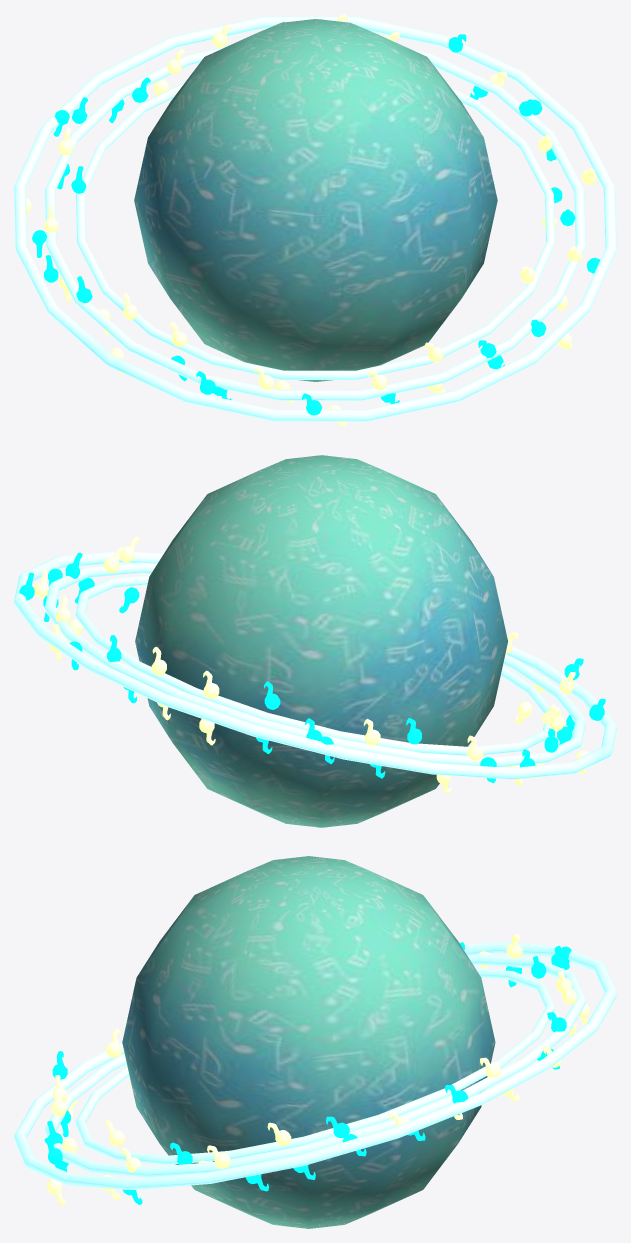
Rendered from Marie_Miku_PlanetGLB.glb.
3 views of the same model, one above another, from view 1: azimuth 30°, elevation 25°; view 2: azimuth 150°, elevation 25°; view 3: azimuth 270°, elevation 25° (orthographic). The views are drawn at different scales.
Parts seen in each view (by area): view 1: Sphere, BezierCircle.002, BezierCircle.001, BezierCircle, SourceEnergieNoteMusic.003, SourceEnergieNoteMusic.001; view 2: Sphere, BezierCircle.002, BezierCircle.001, SourceEnergieNoteMusic.003, BezierCircle, SourceEnergieNoteMusic.001; view 3: Sphere, BezierCircle.002, BezierCircle.001, BezierCircle, SourceEnergieNoteMusic.003, SourceEnergieNoteMusic.001.
Boxes of the visible parts, x1=… form: Sphere: x1=134, y1=19, x2=497, y2=381; BezierCircle.002: x1=14, y1=16, x2=616, y2=421; BezierCircle.001: x1=44, y1=46, x2=586, y2=400; BezierCircle: x1=75, y1=81, x2=555, y2=379; SourceEnergieNoteMusic.003: x1=43, y1=14, x2=596, y2=415; SourceEnergieNoteMusic.001: x1=26, y1=79, x2=600, y2=426; Sphere: x1=135, y1=455, x2=507, y2=827; BezierCircle.002: x1=14, y1=551, x2=616, y2=779; BezierCircle.001: x1=45, y1=562, x2=585, y2=767; SourceEnergieNoteMusic.003: x1=19, y1=536, x2=605, y2=767; BezierCircle: x1=75, y1=575, x2=550, y2=755; SourceEnergieNoteMusic.001: x1=43, y1=568, x2=588, y2=793; Sphere: x1=122, y1=856, x2=495, y2=1228; BezierCircle.002: x1=14, y1=941, x2=616, y2=1190; BezierCircle.001: x1=45, y1=954, x2=585, y2=1177; BezierCircle: x1=75, y1=968, x2=555, y2=1164; SourceEnergieNoteMusic.003: x1=44, y1=934, x2=576, y2=1172; SourceEnergieNoteMusic.001: x1=47, y1=946, x2=589, y2=1205.
Size of the model in its own units: 29.12 by 17.54 by 28.33.
3 materials, 1 textured.
